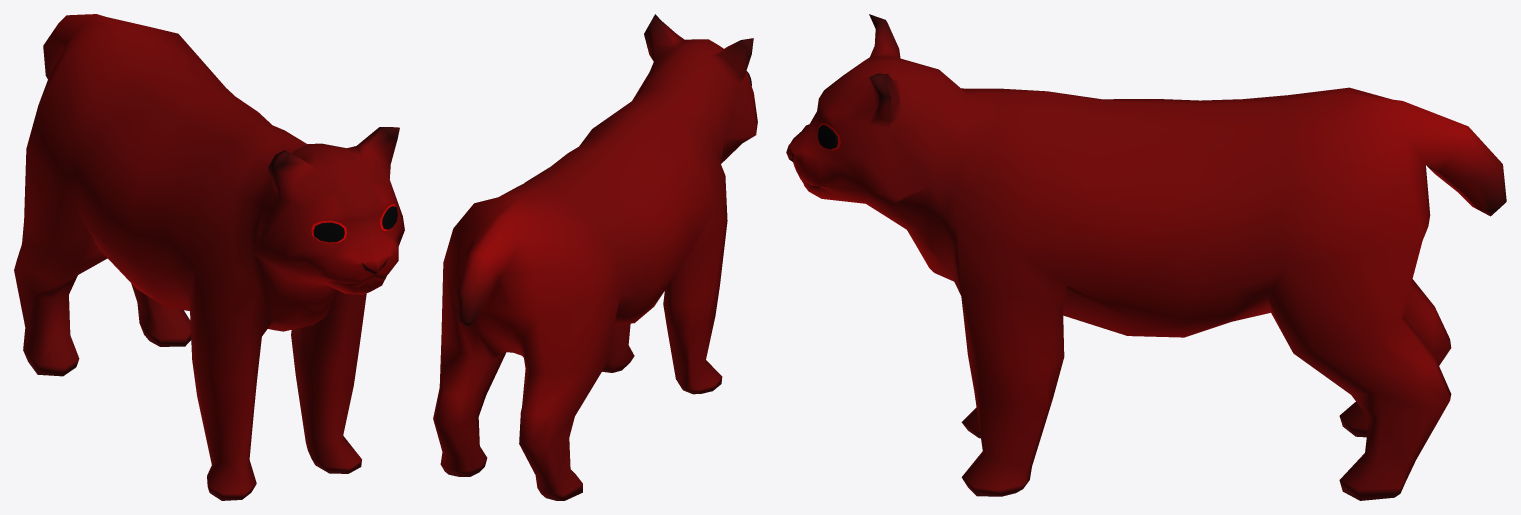
The model's file is Animals_Bobcat.fbx.
3 views of the same model, side by side, from view 1: azimuth 30°, elevation 25°; view 2: azimuth 150°, elevation 25°; view 3: azimuth 270°, elevation 25° (orthographic). The views are drawn at different scales.
Visible parts, largest first — view 1: base; view 2: base; view 3: base.
Part boxes in pixels (x1,y1,x2,y2): base: (14, 14, 404, 500); base: (433, 14, 757, 500); base: (786, 14, 1506, 500).
Bounding box in the file's own units: 33.74 × 65.31 × 103.
